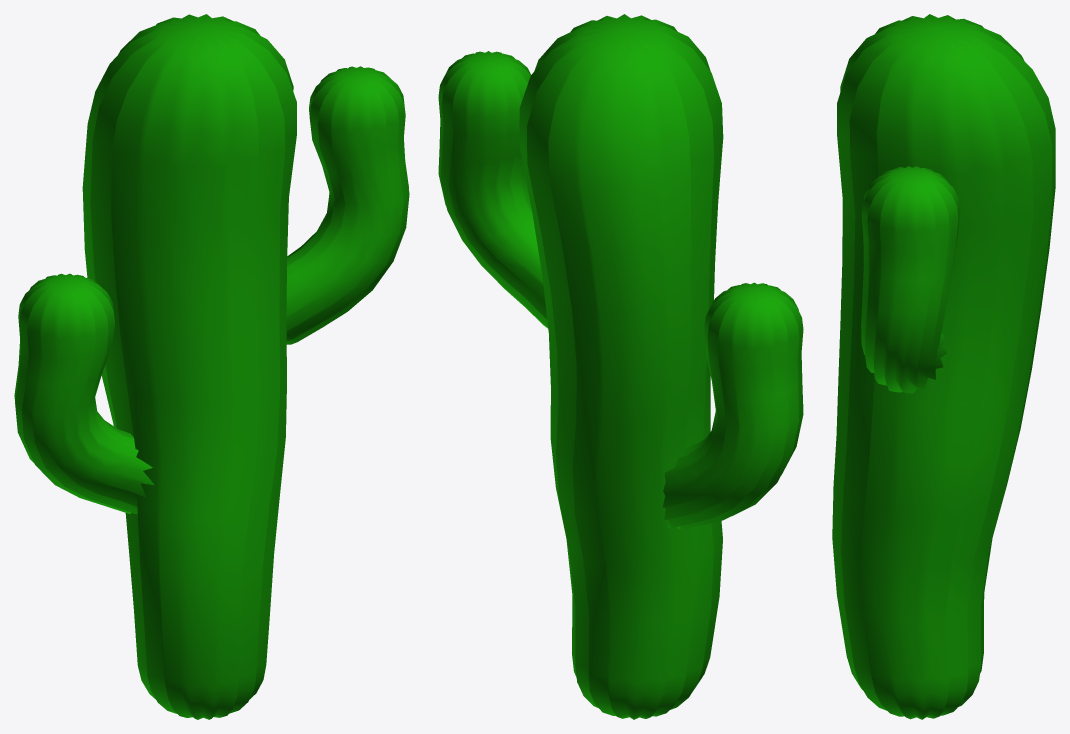
File: cactus.gltf
The picture shows the model from 3 angles, left to right: view 1: azimuth 30°, elevation 25°; view 2: azimuth 150°, elevation 25°; view 3: azimuth 270°, elevation 25°; orthographic projection.
Parts seen in each view (by area): view 1: Cylinder, Cylinder.002, Cylinder.001; view 2: Cylinder, Cylinder.001, Cylinder.002; view 3: Cylinder, Cylinder.002.
Boxes of the visible parts, x1,y1,x2,y2 form: Cylinder: (82,14,296,719); Cylinder.002: (286,66,409,344); Cylinder.001: (14,273,154,514); Cylinder: (519,14,723,719); Cylinder.001: (663,282,803,529); Cylinder.002: (438,51,548,328); Cylinder: (832,14,1055,719); Cylinder.002: (861,166,959,393).
Bounding box in the file's own units: 1.73 × 3.04 × 0.9009.
